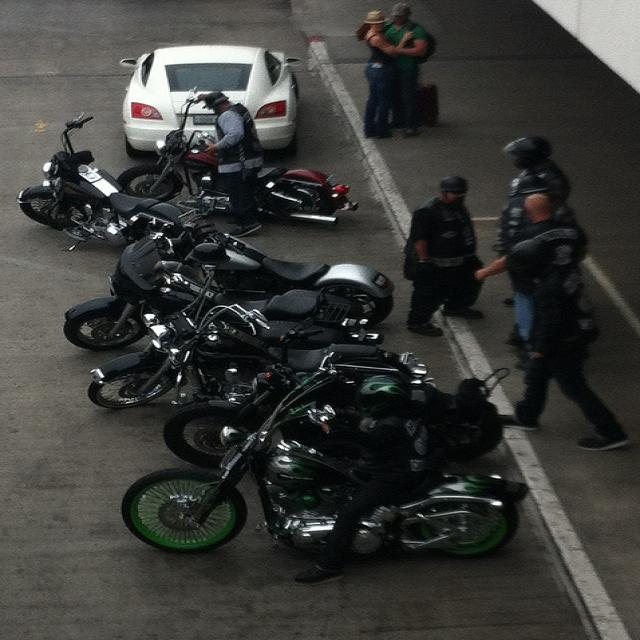motor: (123, 398, 528, 558), (88, 270, 437, 410), (166, 351, 513, 468), (61, 231, 373, 352), (114, 85, 362, 224), (13, 109, 198, 253), (169, 213, 396, 324)
